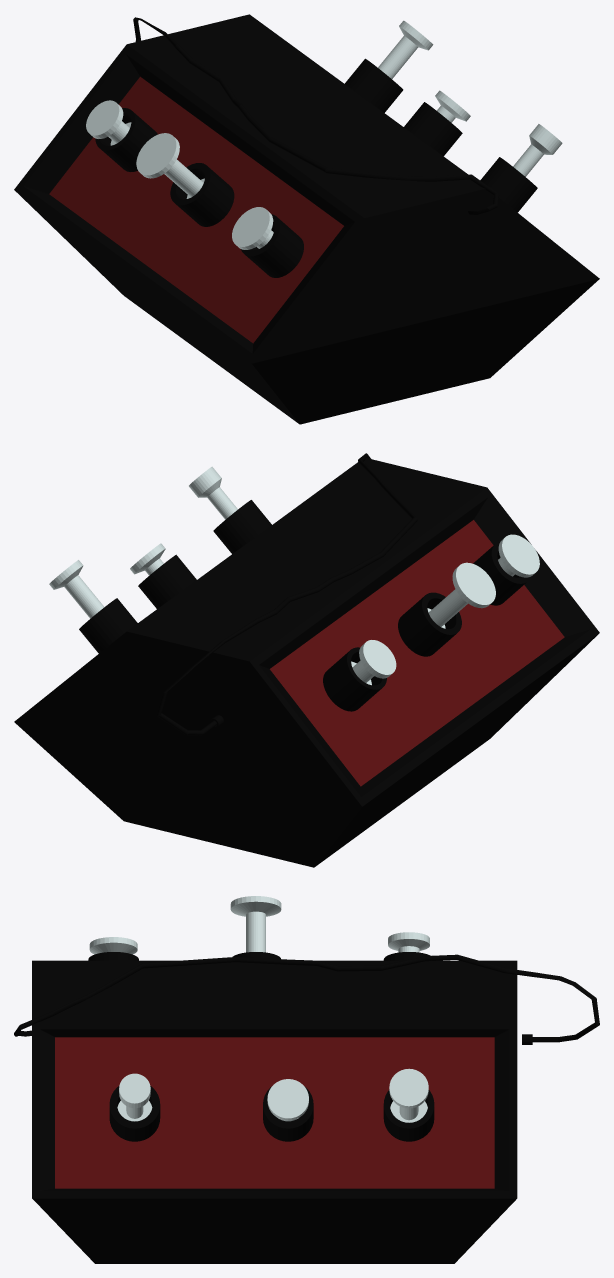
File: Engine 1.fbx
3 renders of one model, top to bottom at view 1: azimuth 30°, elevation 25°; view 2: azimuth 150°, elevation 25°; view 3: azimuth 270°, elevation 25°, orthographic. The views are drawn at different scales.
Visible parts, largest first — view 1: engine; view 2: engine; view 3: engine.
Boxes of the visible parts, x1,y1,x2,y2 form: engine: (14, 14, 599, 424); engine: (14, 453, 599, 867); engine: (14, 896, 599, 1263).
Bounding box in the file's own units: 43.73 × 27.97 × 59.71.
